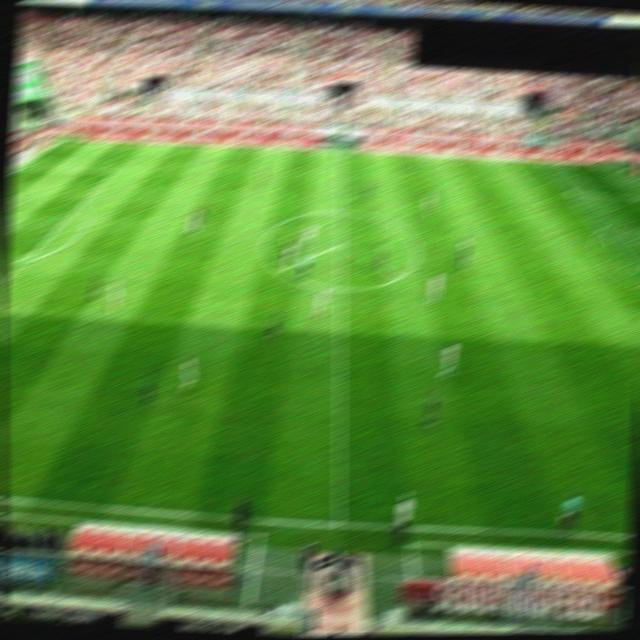bigarea_top_inner: (104, 164, 123, 178), (558, 188, 576, 200)
bigarea_top_outter: (11, 162, 28, 174)
bottom_arc_area_intersection: (14, 256, 31, 268)
corner: (614, 160, 632, 174), (51, 135, 68, 147)
halfcircle_bottom: (331, 282, 348, 294)
halfcircle_top: (332, 204, 349, 216)
midline_bottom_intersection: (329, 515, 348, 531)
midline_top_intersection: (331, 145, 348, 157)
smallarea_top_inner: (6, 192, 20, 204)
top_arc_area_intersection: (69, 200, 88, 213), (594, 226, 611, 238)
